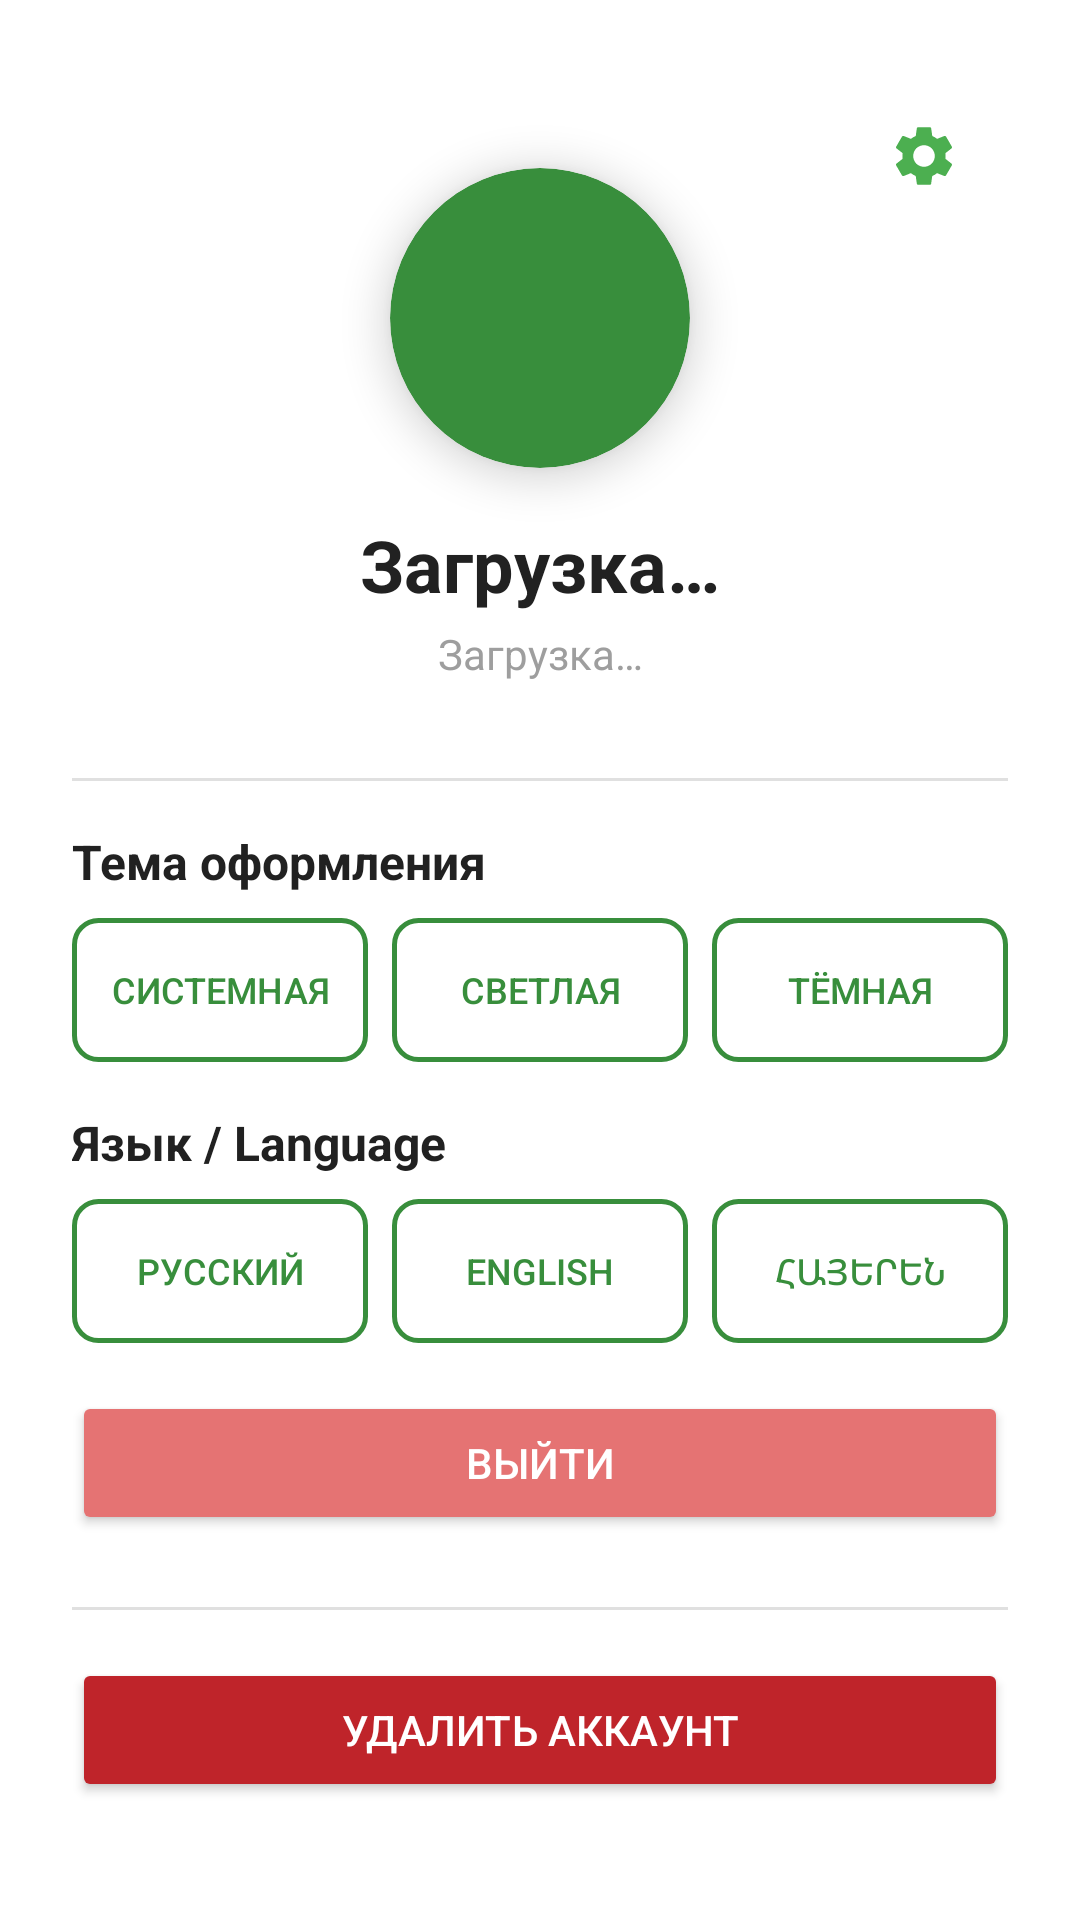

Icons on this 1080 × 1920 Android screen, each with the point to tap as [x,y]:
settings: [924,156]
